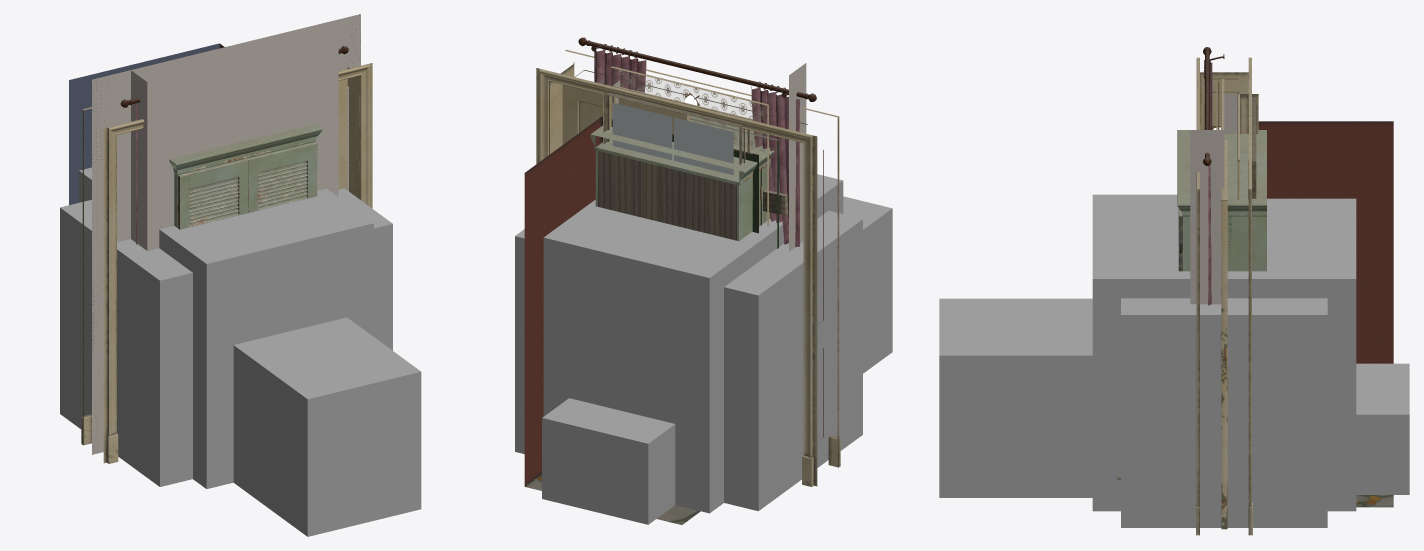
Rendered from wood.glb.
3 views of the same model, side by side, from view 1: azimuth 30°, elevation 25°; view 2: azimuth 150°, elevation 25°; view 3: azimuth 270°, elevation 25° (orthographic). The views are drawn at different scales.
Visible parts, largest first — view 1: Solid_iron_bed, Isl_twin_cribs, Isl_bed_screen, Mod_fireplace_wood, Door_frame_wood, Door_closed_wood, Win_sash, Ward_leafL_wood, Ward_leafR_wood, Exit_wood_p1, Mod_wallhole_lath_A_wood, Mod_wallhole_lath_B_wood (+4 smaller); view 2: Isl_twin_cribs, Isl_bed_screen, Solid_nursery_table, Ward_body_wood, Exit_wood_p0, Door_frame_wood, Win_sash_curtain, Solid_iron_bed, Win_sash_glass, Door_leaf_wood, Mod_fireplace_wood, Win_sash_frame (+1 smaller); view 3: Isl_bed_screen, Solid_iron_bed, Isl_twin_cribs, Exit_wood_p0, Solid_nursery_table, Ward_body_wood, Isl_crib_rocker, Mod_fireplace_wood, Door_frame_wood, Door_leaf_wood, Win_sash_frame, Win_sash_curtain (+1 smaller).
Part boxes in pixels (x1,y1,x2,y2): Solid_iron_bed: (233, 317, 421, 536); Isl_twin_cribs: (79, 167, 373, 488); Isl_bed_screen: (60, 188, 392, 486); Mod_fireplace_wood: (92, 14, 360, 454); Door_frame_wood: (81, 63, 372, 463); Door_closed_wood: (92, 14, 360, 454); Win_sash: (92, 14, 360, 453); Ward_leafL_wood: (178, 158, 248, 229); Ward_leafR_wood: (247, 141, 317, 212); Exit_wood_p1: (69, 43, 219, 205); Mod_wallhole_lath_A_wood: (92, 15, 360, 453); Mod_wallhole_lath_B_wood: (92, 15, 360, 453); Isl_twin_cribs: (543, 174, 843, 513); Isl_bed_screen: (515, 210, 862, 511); Solid_nursery_table: (542, 398, 675, 524); Ward_body_wood: (590, 115, 774, 240); Exit_wood_p0: (524, 93, 778, 524); Door_frame_wood: (536, 49, 840, 486); Win_sash_curtain: (578, 37, 816, 247); Solid_iron_bed: (843, 196, 892, 373); Win_sash_glass: (612, 102, 733, 175); Door_leaf_wood: (562, 84, 690, 144); Mod_fireplace_wood: (789, 63, 806, 251); Win_sash_frame: (603, 66, 768, 226); Isl_bed_screen: (1121, 298, 1327, 527); Solid_iron_bed: (939, 298, 1092, 497); Isl_twin_cribs: (1092, 194, 1356, 511); Exit_wood_p0: (1211, 121, 1393, 507); Solid_nursery_table: (1356, 363, 1409, 494); Ward_body_wood: (1177, 130, 1266, 271); Isl_crib_rocker: (1099, 369, 1348, 511); Mod_fireplace_wood: (1190, 130, 1224, 304); Door_frame_wood: (1196, 57, 1252, 535); Door_leaf_wood: (1220, 140, 1227, 529); Win_sash_frame: (1221, 79, 1258, 199); Win_sash_curtain: (1203, 47, 1224, 305).
Bounding box in the file's own units: 2.25 × 3.35 × 3.3.
Materials: 20 (15 with a texture image).
